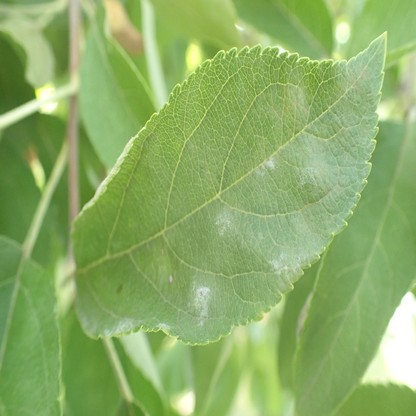powder: (18, 290, 64, 416), (190, 286, 210, 328), (269, 255, 306, 275), (103, 319, 134, 337), (76, 305, 95, 334), (214, 210, 232, 236), (297, 167, 316, 189), (256, 159, 275, 177), (156, 323, 170, 333), (168, 273, 174, 283)
scab: (339, 66, 370, 98)
